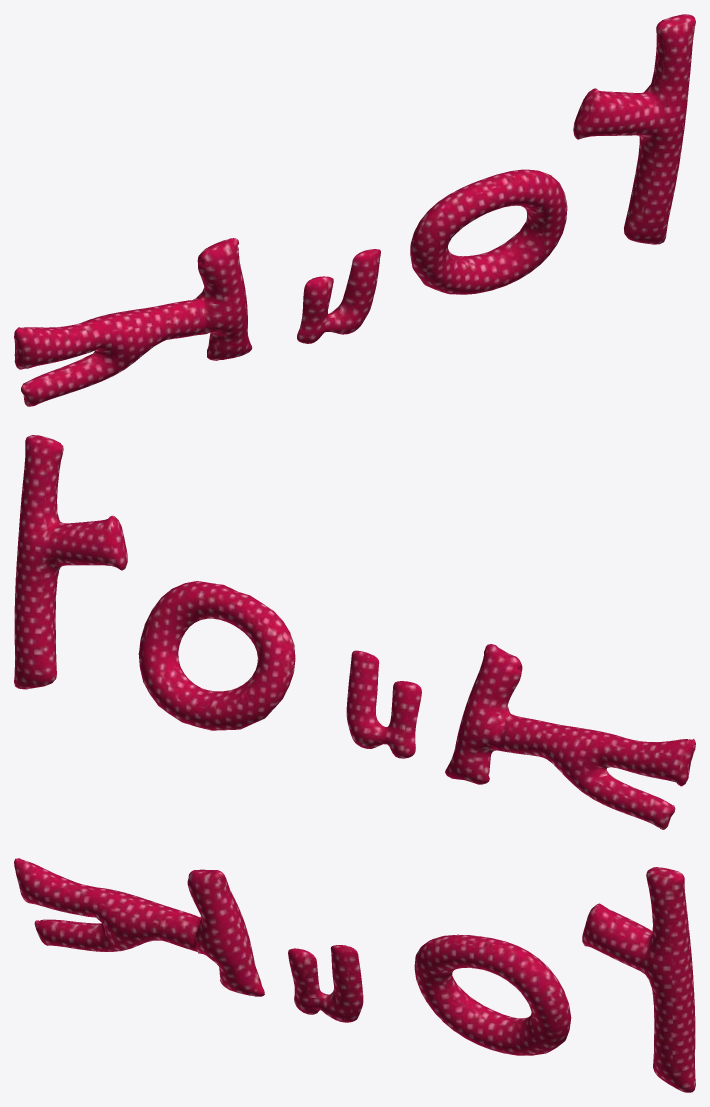
The model's file is letters.gltf.
3 views of the same model, one above another, from view 1: azimuth 30°, elevation 25°; view 2: azimuth 150°, elevation 25°; view 3: azimuth 330°, elevation 25° (orthographic). The views are drawn at different scales.
Parts seen in each view (by area): view 1: letterK, letterT, letterO, letterU; view 2: letterK, letterO, letterT, letterU; view 3: letterK, letterO, letterT, letterU.
Part boxes in pixels (bbox=[...]): letterK: bbox=[14, 238, 252, 406]; letterT: bbox=[573, 14, 695, 244]; letterO: bbox=[410, 169, 567, 294]; letterU: bbox=[297, 249, 380, 343]; letterK: bbox=[445, 644, 695, 829]; letterO: bbox=[138, 581, 295, 730]; letterT: bbox=[14, 435, 127, 689]; letterU: bbox=[346, 650, 421, 758]; letterK: bbox=[14, 858, 264, 996]; letterO: bbox=[414, 934, 571, 1055]; letterT: bbox=[582, 867, 695, 1092]; letterU: bbox=[288, 945, 363, 1022].
Bounding box in the file's own units: 0.4631 × 0.1568 × 0.0484.
1 material, 1 textured.
